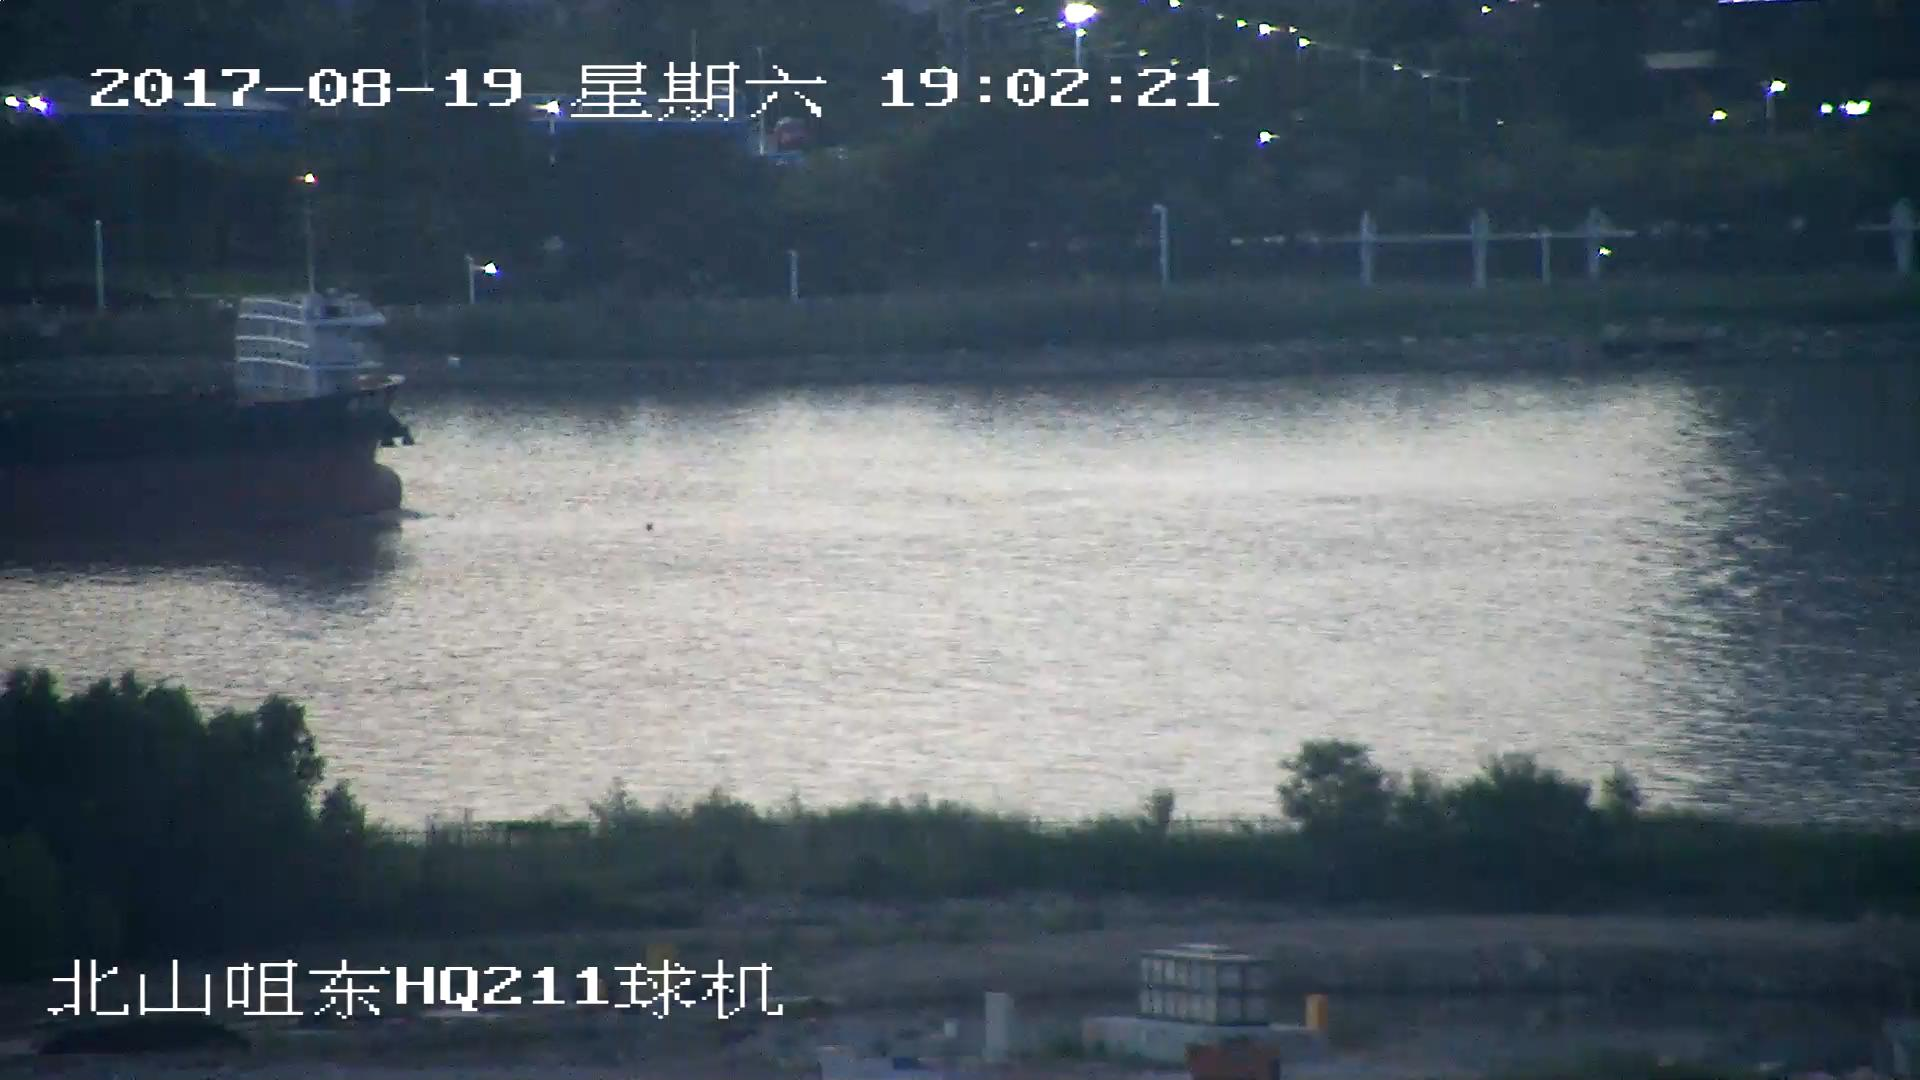general cargo ship: (1, 297, 413, 520)
